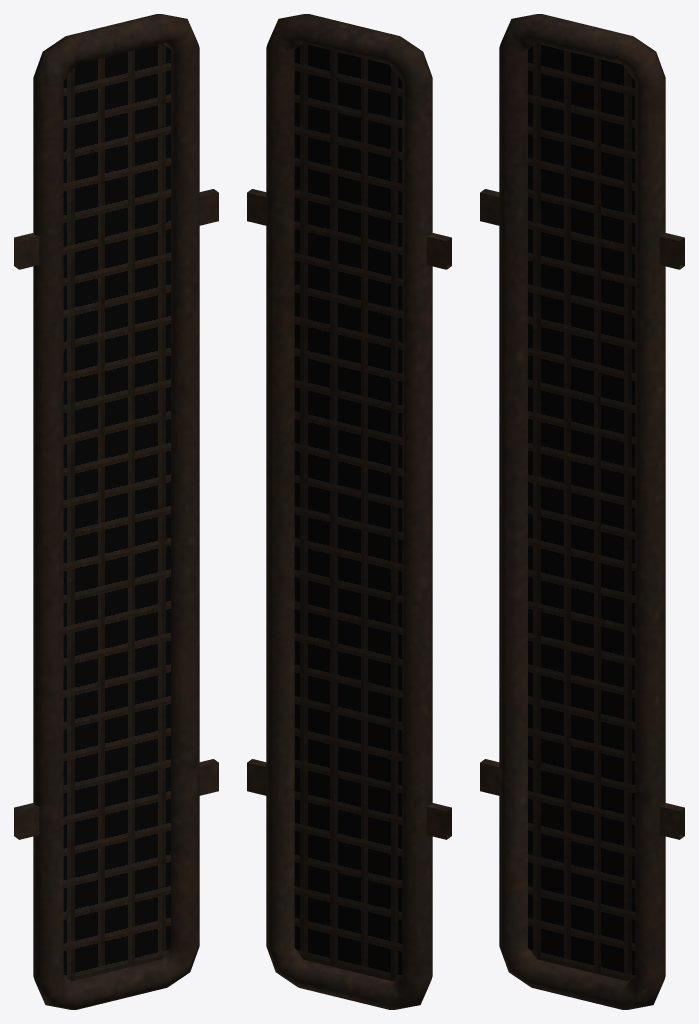
File: fence_e_pillar_1.obj
3 renders of one model, left to right at view 1: azimuth 30°, elevation 25°; view 2: azimuth 150°, elevation 25°; view 3: azimuth 330°, elevation 25°, orthographic.
Parts seen in each view (by area): view 1: fence_e_pillar_1; view 2: fence_e_pillar_1; view 3: fence_e_pillar_1.
Boxes of the visible parts, box(x1,y1,x2,y2) form: fence_e_pillar_1: box(14, 14, 218, 1009); fence_e_pillar_1: box(247, 14, 451, 1009); fence_e_pillar_1: box(480, 14, 684, 1009).
Size of the model in its own units: 0.44 by 2.05 by 0.06.
